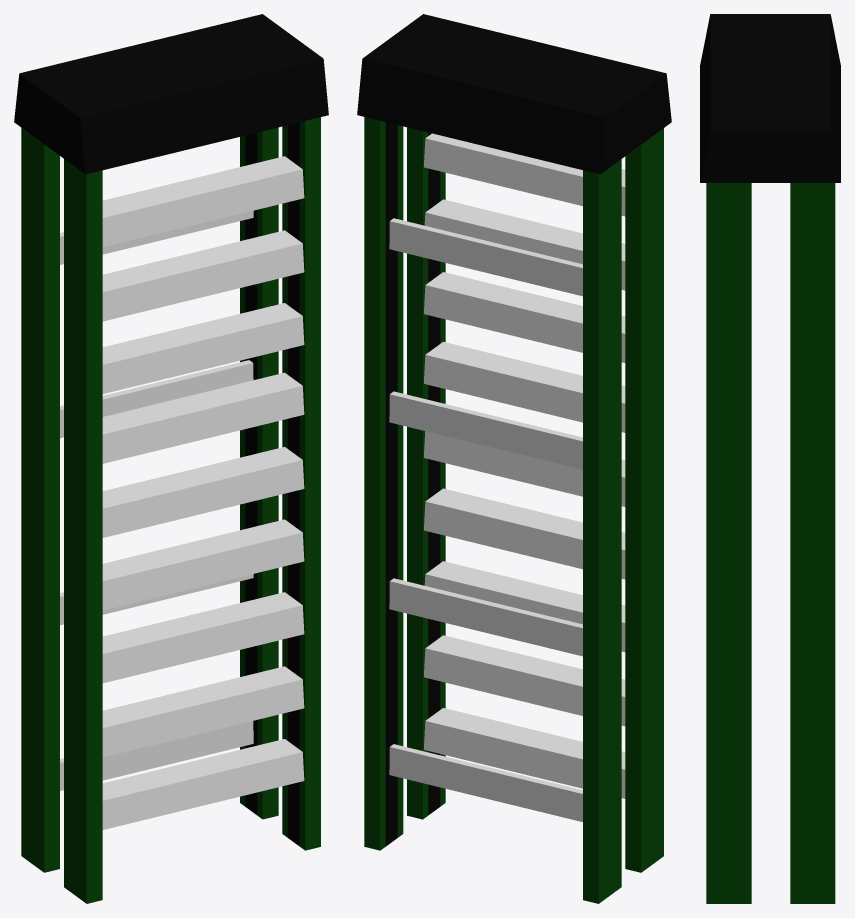
File: StepLadder.fbx
3 renders of one model, left to right at view 1: azimuth 30°, elevation 25°; view 2: azimuth 150°, elevation 25°; view 3: azimuth 270°, elevation 25°, orthographic.
Visible parts, largest first — view 1: Cube; view 2: Cube; view 3: Cube.
Part boxes in pixels (box(x1,y1,x2,y2)): Cube: box(14, 14, 328, 903); Cube: box(357, 14, 671, 903); Cube: box(700, 14, 840, 903).
Bounding box in the file's own units: 349 × 1077 × 178.
